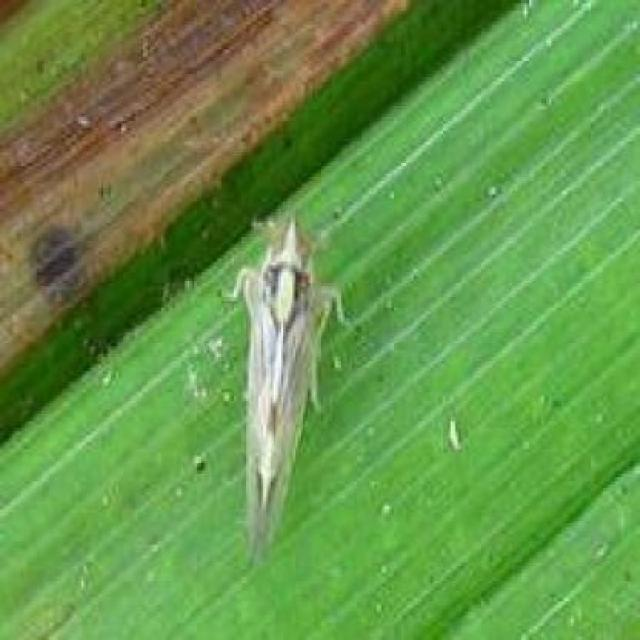brown-planthopper: (237, 214, 323, 568)
